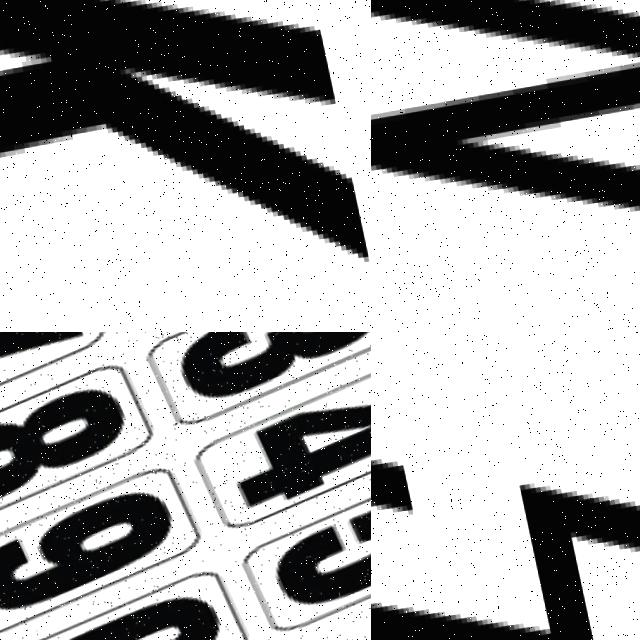0: (0, 581, 228, 640)
3: (150, 332, 371, 419)
4: (195, 366, 371, 526)
5: (371, 360, 640, 640), (241, 472, 371, 627)
7: (0, 332, 92, 418)
8: (0, 374, 138, 526)
9: (0, 476, 184, 628)
K: (0, 0, 371, 332)
N: (371, 0, 640, 332)
